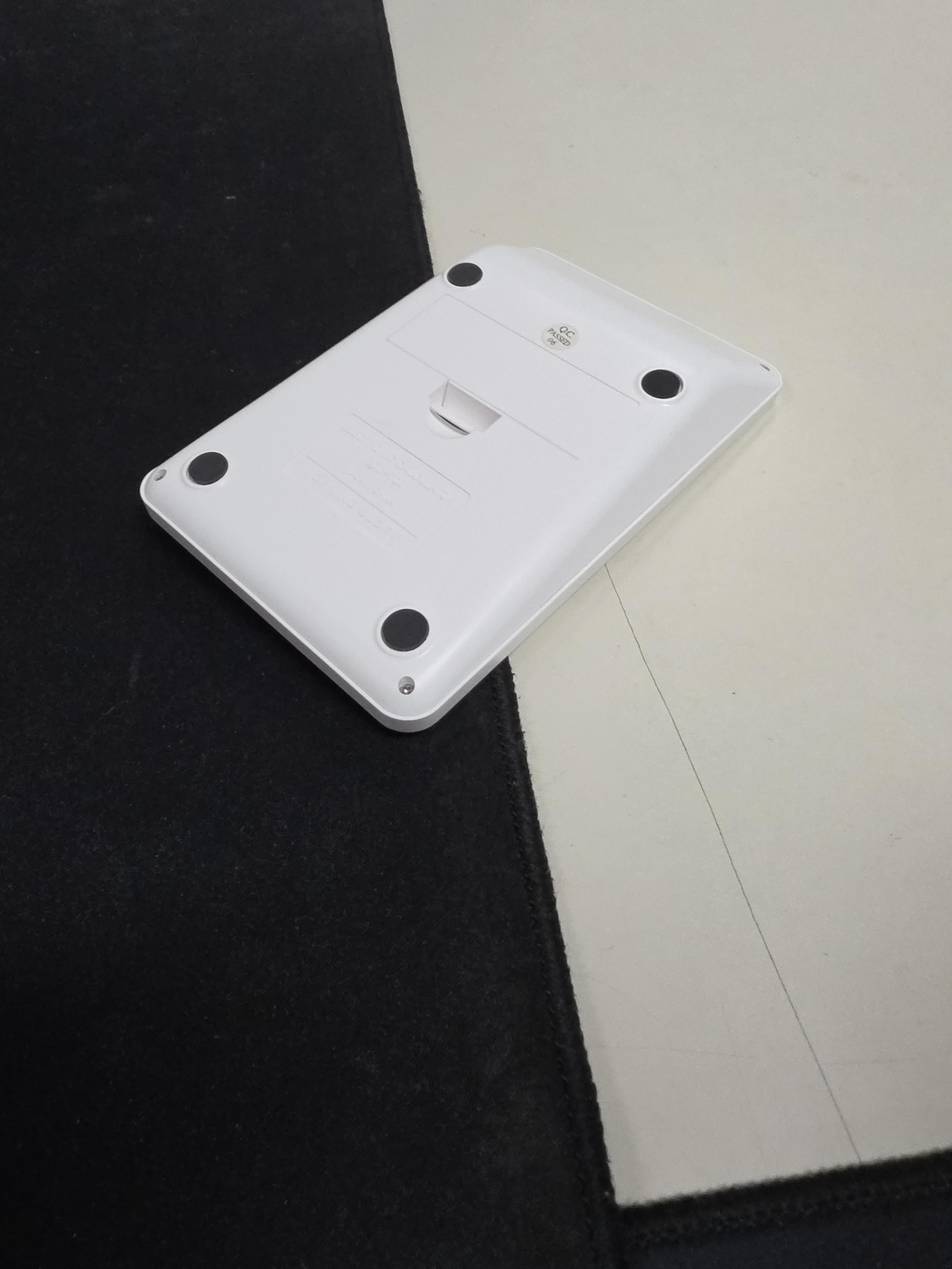calculator: (139, 244, 783, 734)
